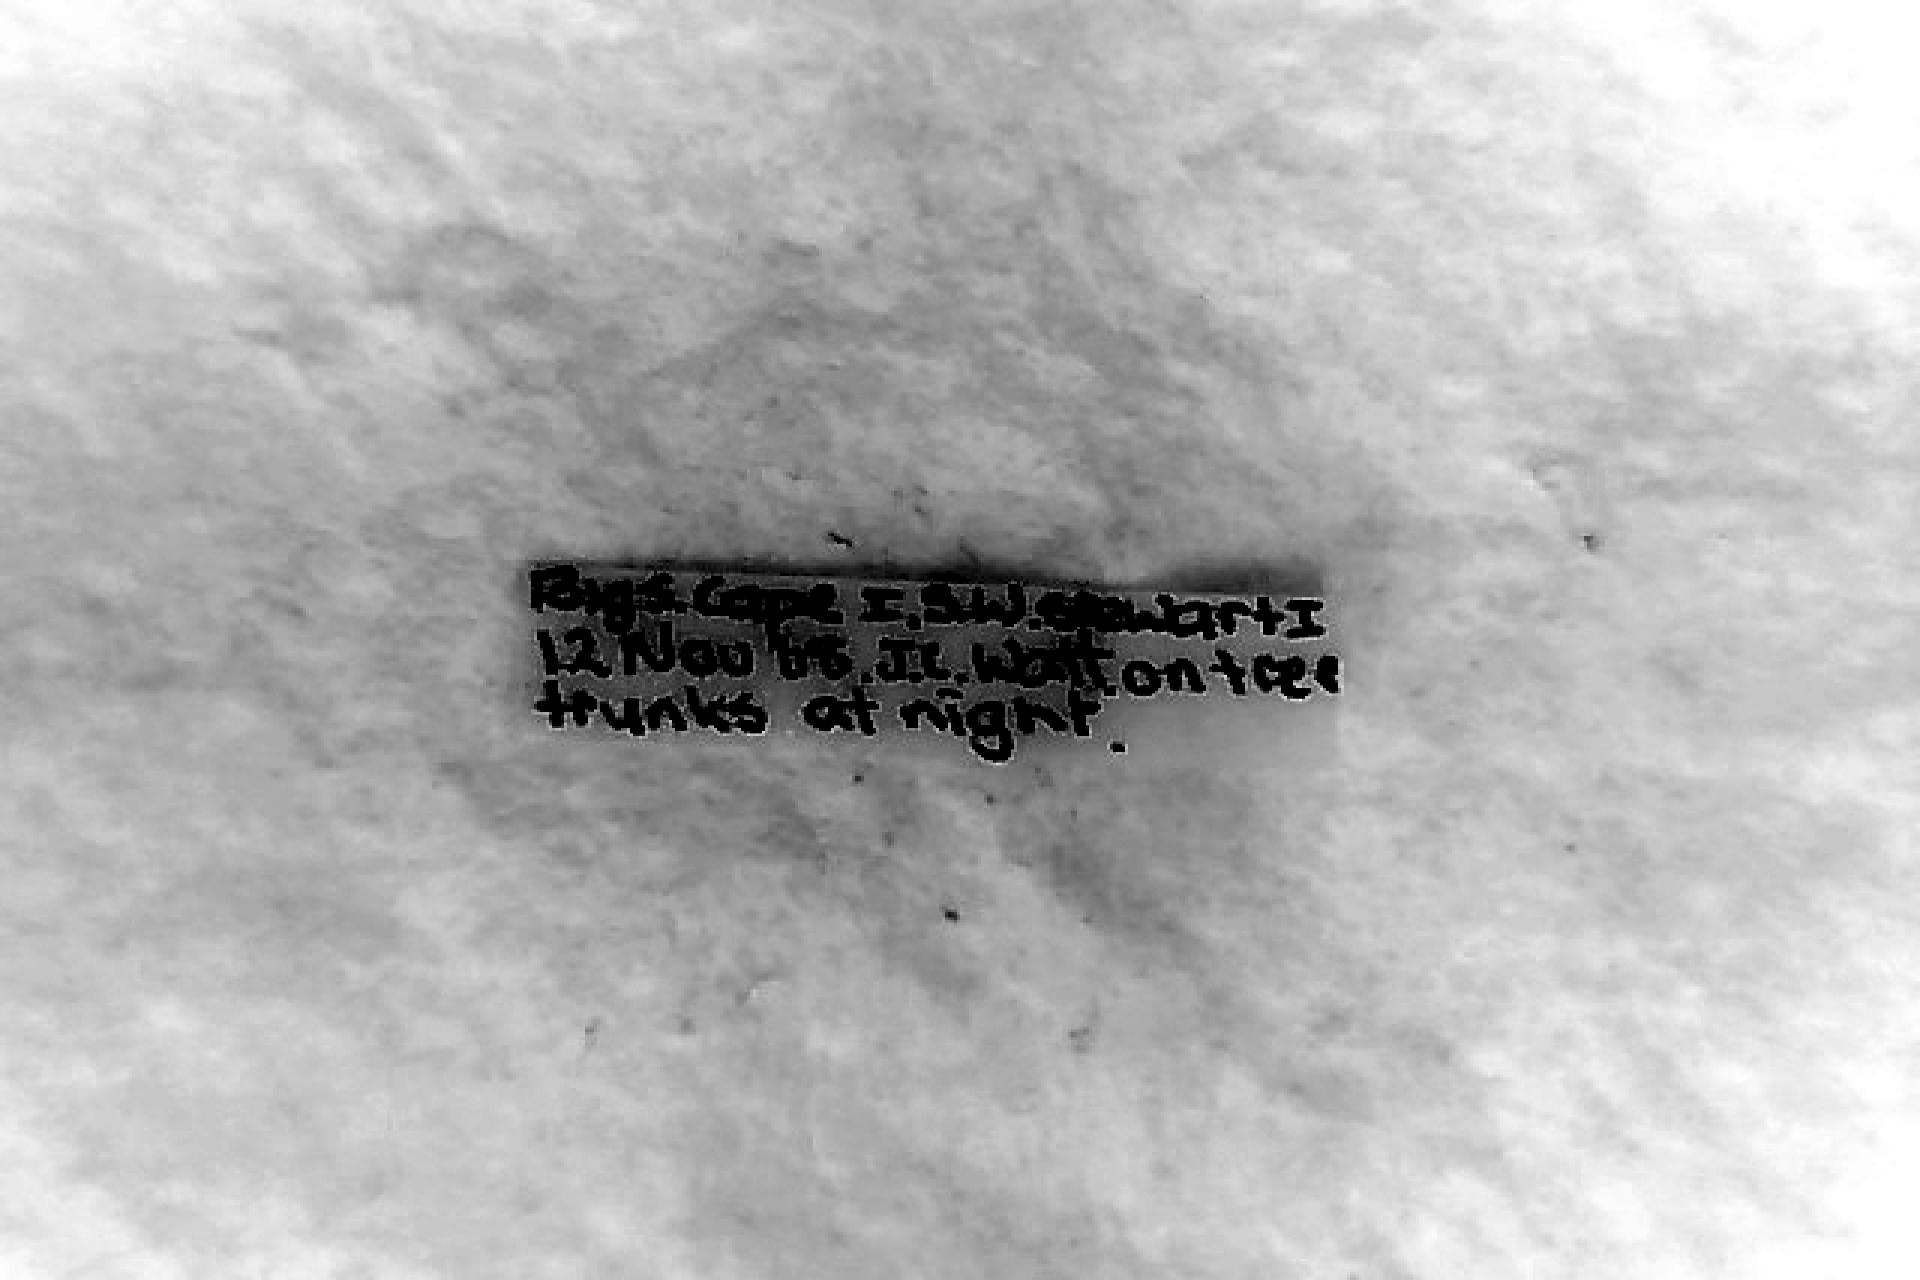hand_label: (529, 563, 1343, 766)
